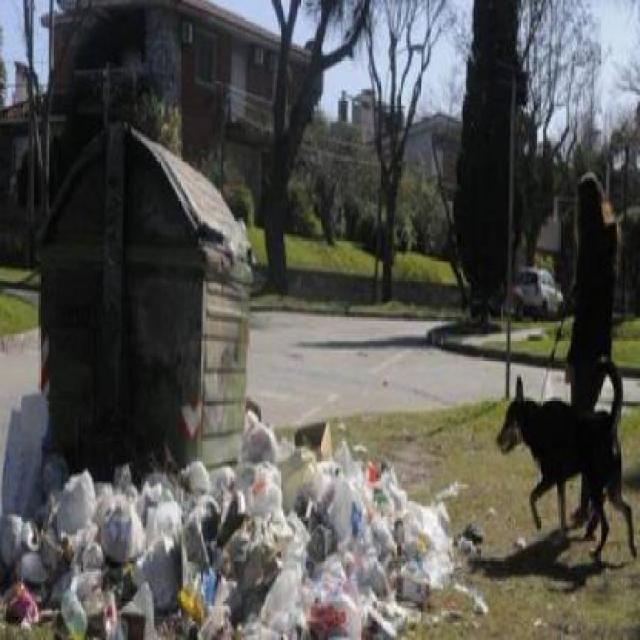garbage: (5, 394, 462, 638)
